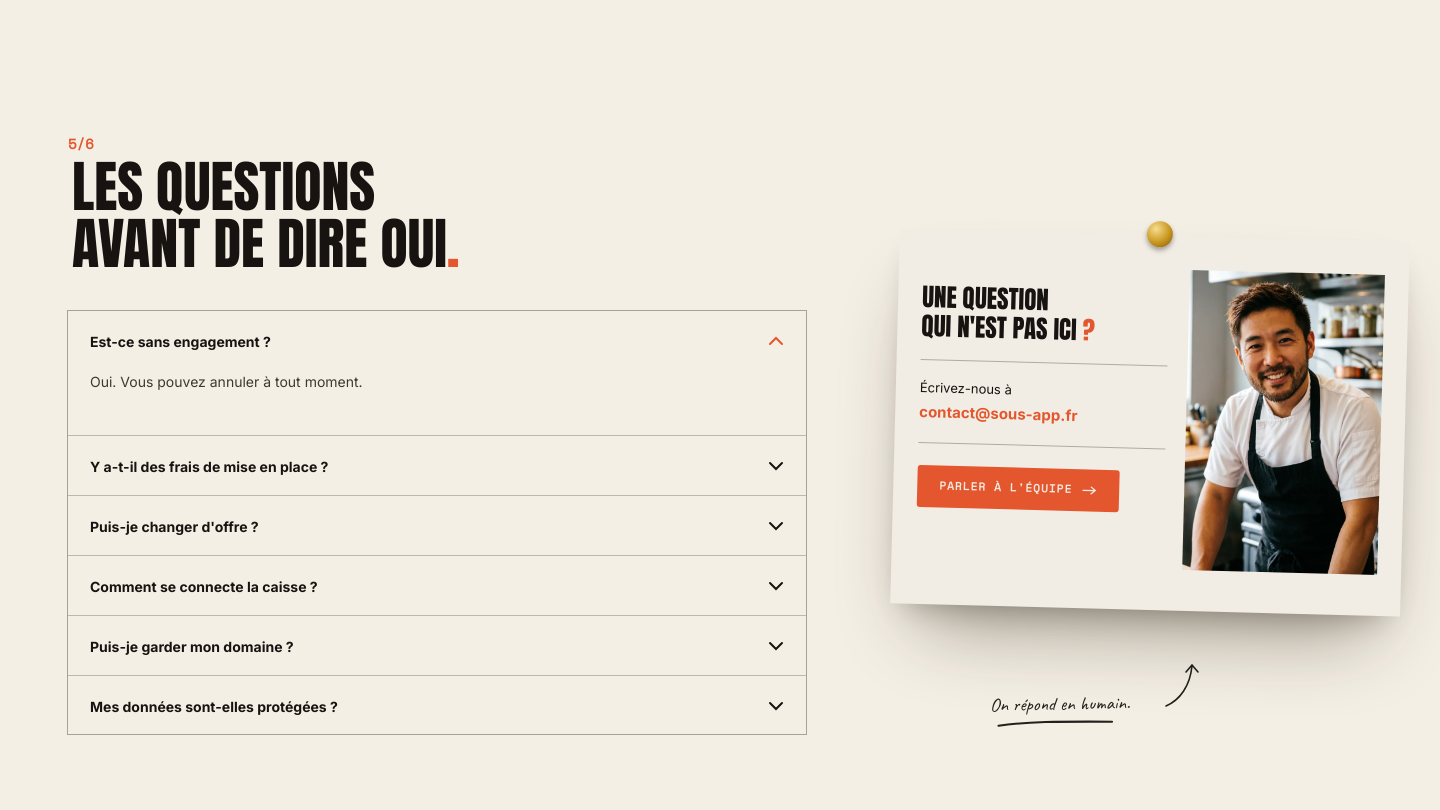
it: TarifsFaqSection › opens and closes pricing answers
This screenshot has width=1440, height=810.
Click the button "Y a-t-il des frais de mise en place ?". click: (209, 466)
box: [68,436,806,496]
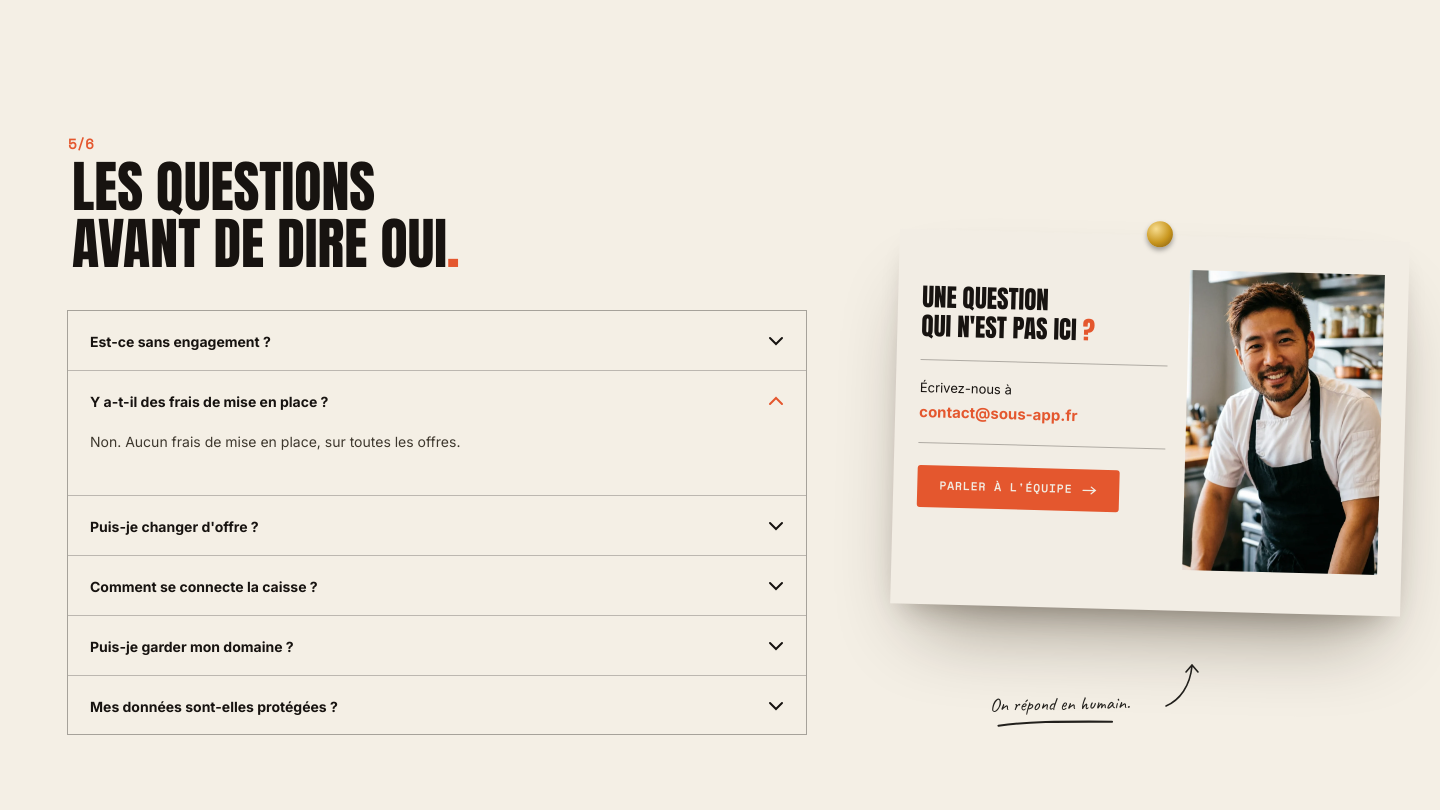
Expected: the button "Y a-t-il des frais de mise en place ?" is expanded
Expected: the text "Non. Aucun frais de mise en place, sur toutes les offres." is shown, [90,433,460,450]
Click the button "Y a-t-il des frais de mise en place ?". click: (209, 401)
box: [68,371,806,431]
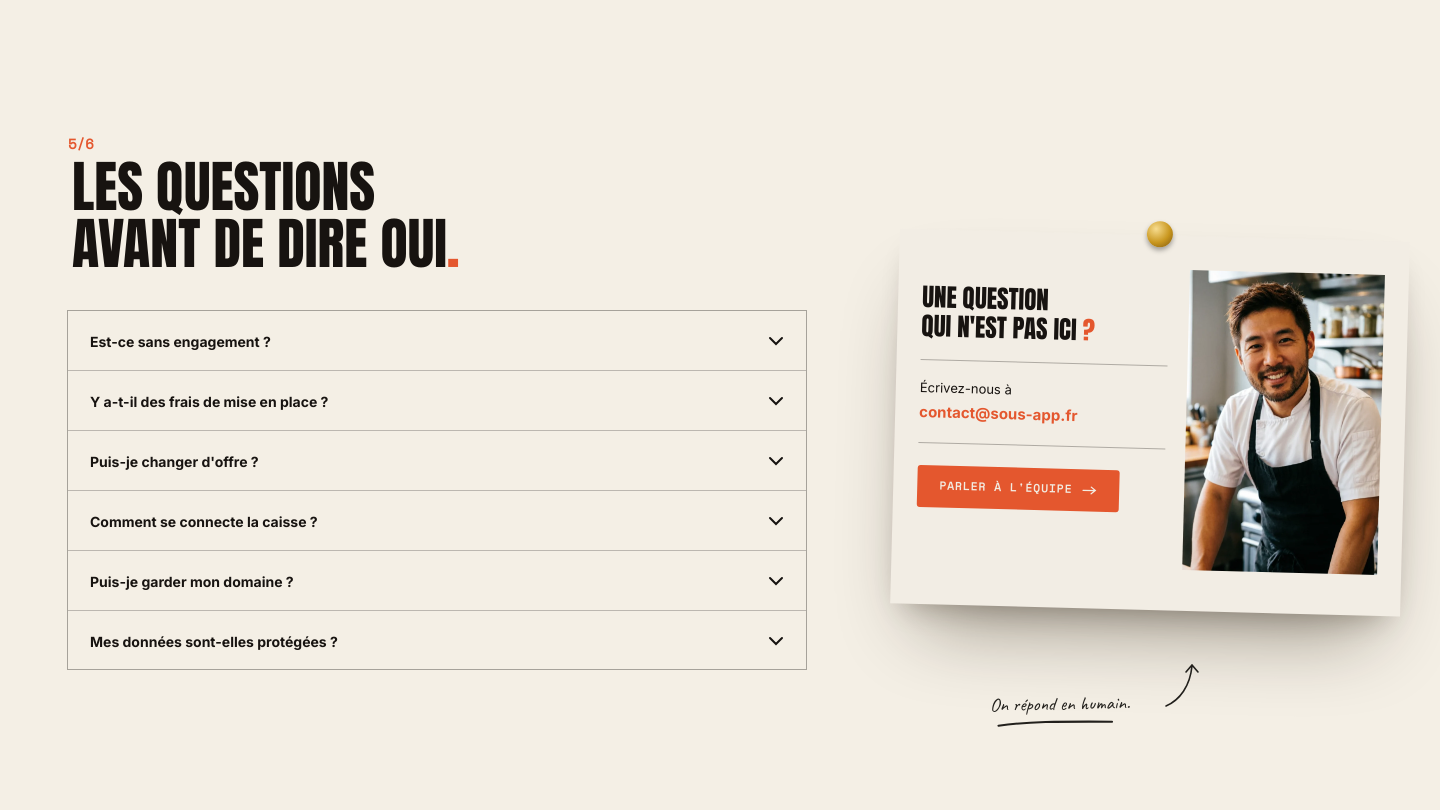
Expected: the button "Y a-t-il des frais de mise en place ?" is collapsed, [68,371,806,431]
